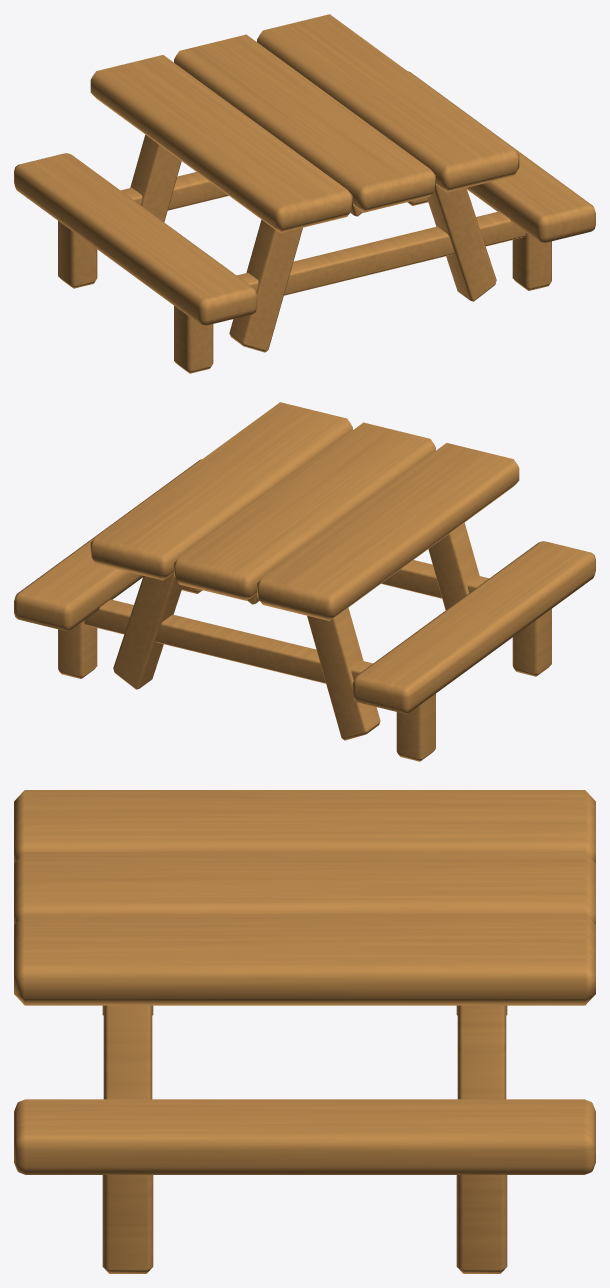
File: picnic.fbx
3 views of the same model, one above another, from view 1: azimuth 30°, elevation 25°; view 2: azimuth 150°, elevation 25°; view 3: azimuth 270°, elevation 25° (orthographic). The views are drawn at different scales.
Visible parts, largest first — view 1: picnic; view 2: picnic; view 3: picnic.
Part boxes in pixels (x1,y1,x2,y2): picnic: [14, 14, 595, 373]; picnic: [14, 402, 595, 761]; picnic: [14, 790, 595, 1273].
Bounding box in the file's own units: 1200 × 500 × 1000.
1 material, 1 textured.
